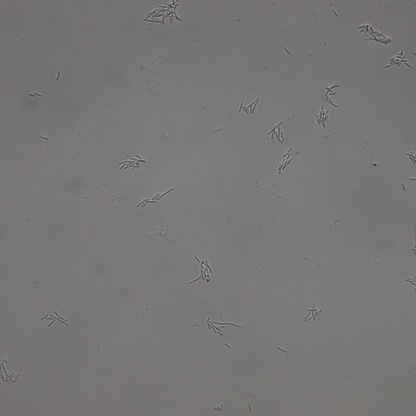R(colony): (143, 1, 182, 24), (188, 256, 212, 285), (137, 188, 173, 207), (206, 317, 243, 335), (359, 24, 390, 45), (118, 154, 147, 172), (384, 50, 412, 68), (322, 83, 341, 107), (40, 311, 68, 326), (277, 148, 293, 174), (239, 96, 260, 114), (268, 120, 285, 142), (304, 303, 322, 323), (317, 105, 330, 127)
